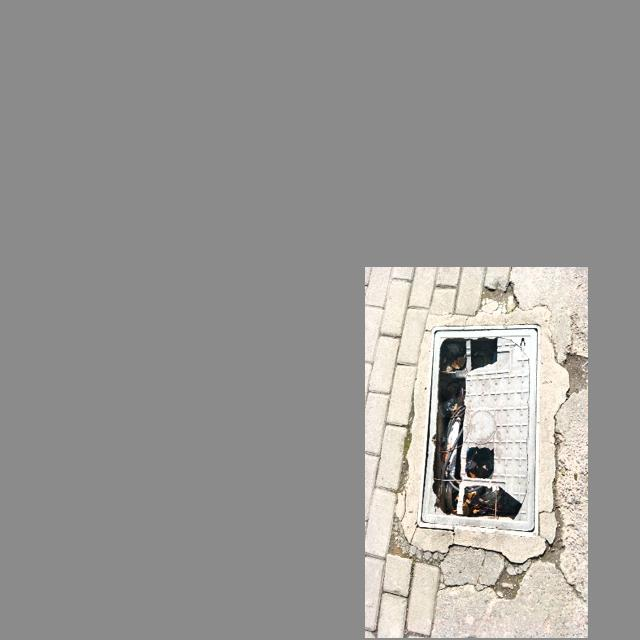broke: (417, 324, 540, 534)
